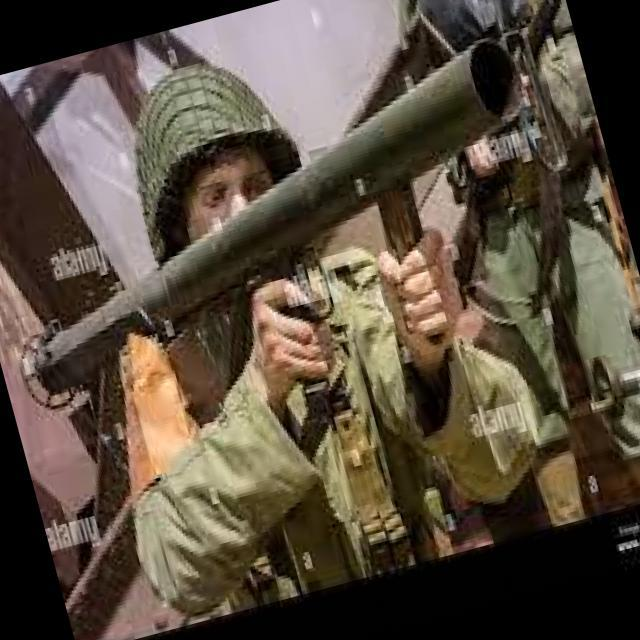rocket: (0, 26, 569, 412)
